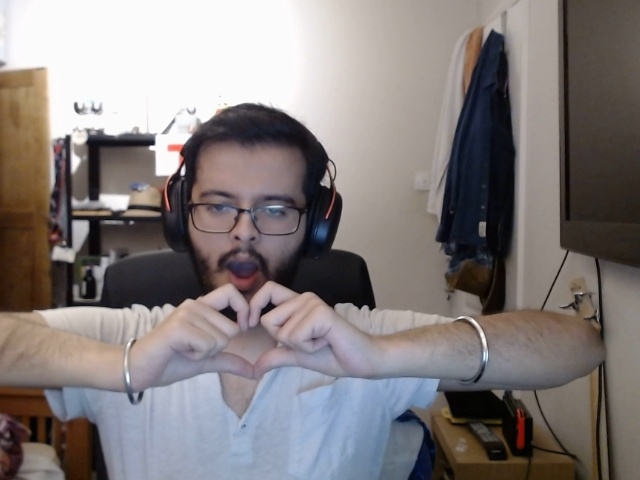Heart: (117, 283, 392, 386)
